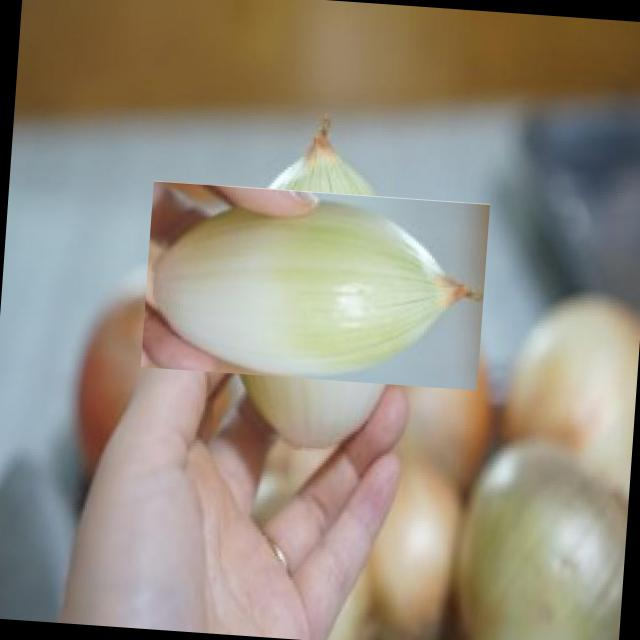Onion: (175, 146, 455, 426)
